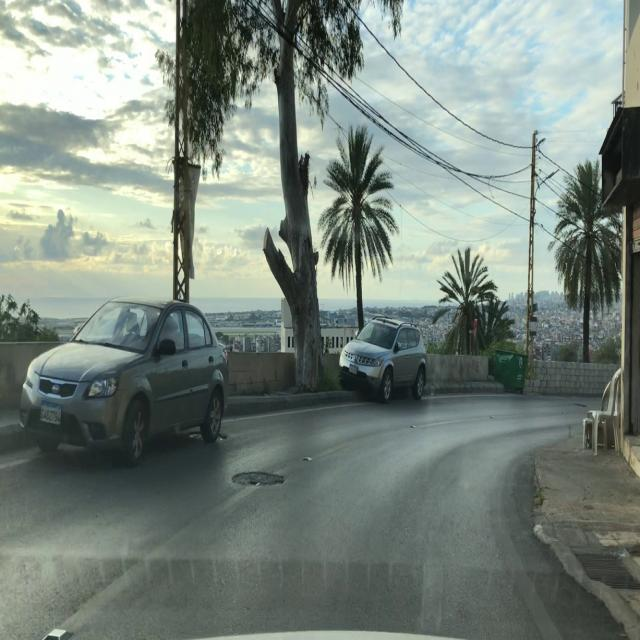Pothole: (227, 462, 289, 495)
